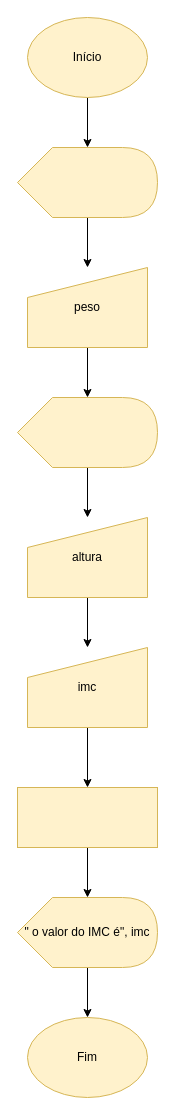
The diagram is 175 pixels wide and 1115 high, and some of its shapes have lost their labels. The centre of each missing label's shape, as x and y in pixels:
"digite a altura": the point at 87,432
"digite o peso": the point at 87,182
imc <- peso/ (altura*altura): the point at 87,817
